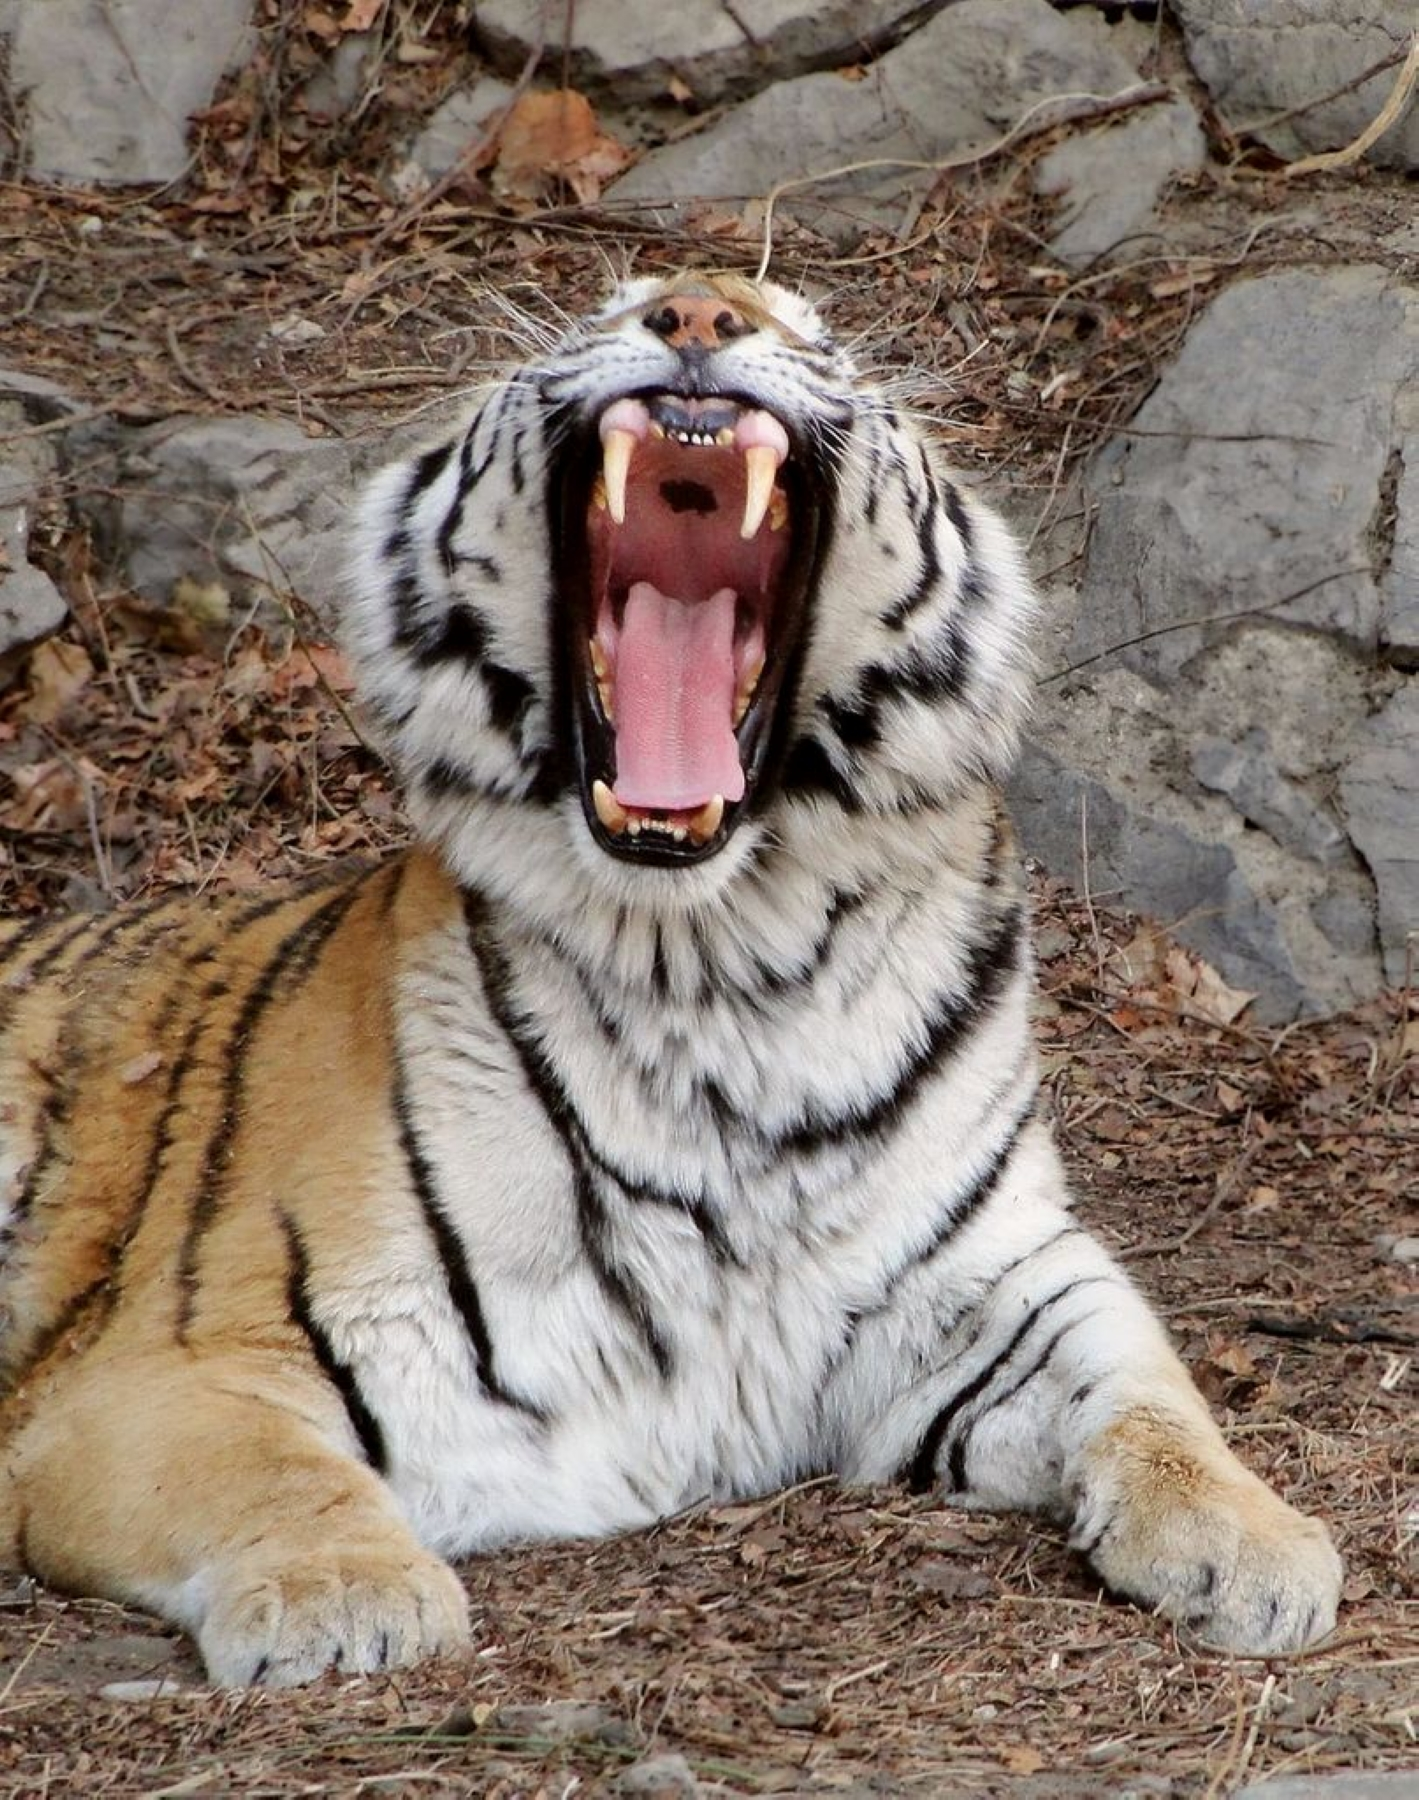tiger: (110, 222, 1342, 1709)
